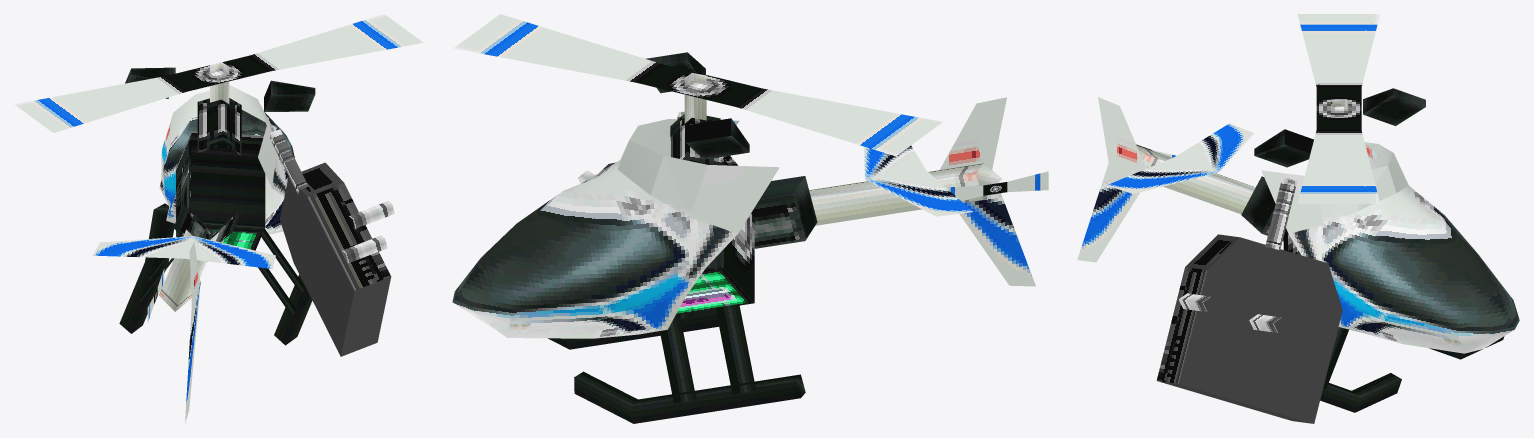
The model's file is ps2_save-icons_rcsportscopterchallenge.glb.
The picture shows the model from 3 angles, left to right: view 1: azimuth 30°, elevation 25°; view 2: azimuth 150°, elevation 25°; view 3: azimuth 270°, elevation 25°; orthographic projection. The views are drawn at different scales.
Parts seen in each view (by area): view 1: fcircus.ico; view 2: fcircus.ico; view 3: fcircus.ico.
Part boxes in pixels (<box>): fcircus.ico: <box>14,14,423,423</box>; fcircus.ico: <box>452,14,1048,423</box>; fcircus.ico: <box>1077,14,1519,423</box>.
Size of the model in its own units: 4.98 by 3.17 by 4.9.
Materials: 1 (1 with a texture image).
